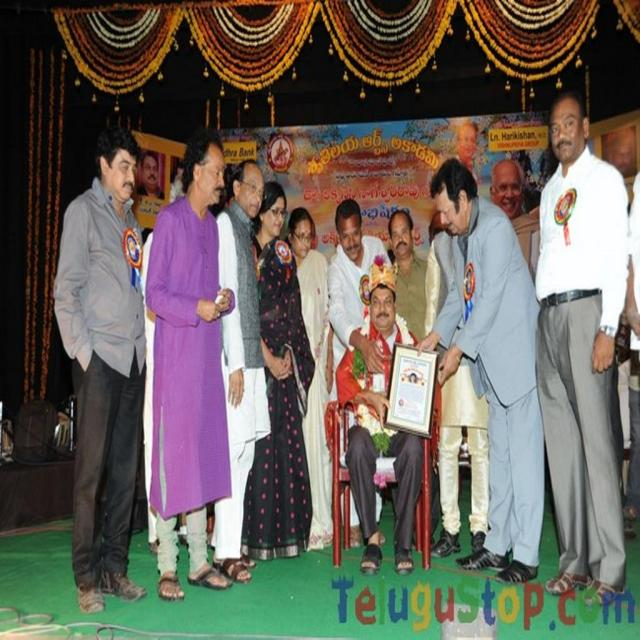nomask: (550, 106, 582, 160), (108, 147, 136, 200), (200, 146, 224, 203), (494, 166, 520, 218), (240, 163, 264, 217), (434, 192, 460, 234), (371, 289, 394, 331), (339, 217, 361, 260), (431, 217, 452, 259), (390, 215, 410, 255), (266, 195, 284, 236), (292, 221, 310, 257), (460, 123, 476, 156), (143, 158, 158, 186), (177, 167, 183, 178)
